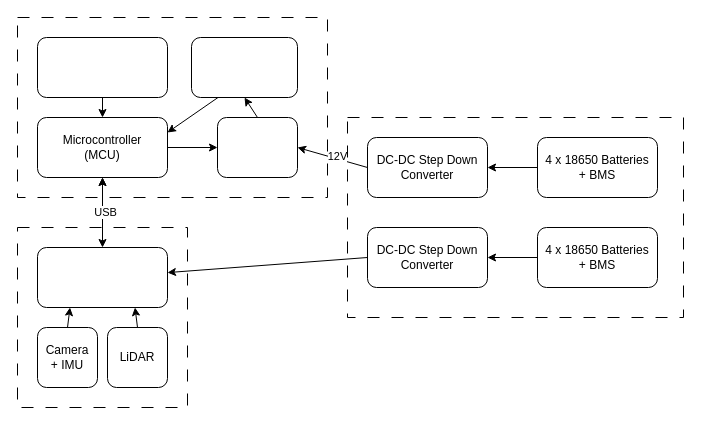
Image size: 701x425. Some labels were removed from this diagram. The shapes that lost their labels are listed below. From the top down, each one's centre as x and y in pixels, then its label:
the point at 102,67: Voltage Sensors
the point at 244,67: 12V Motors + Encoders
the point at 257,147: Motor Drivers
the point at 102,277: PC / SBC
